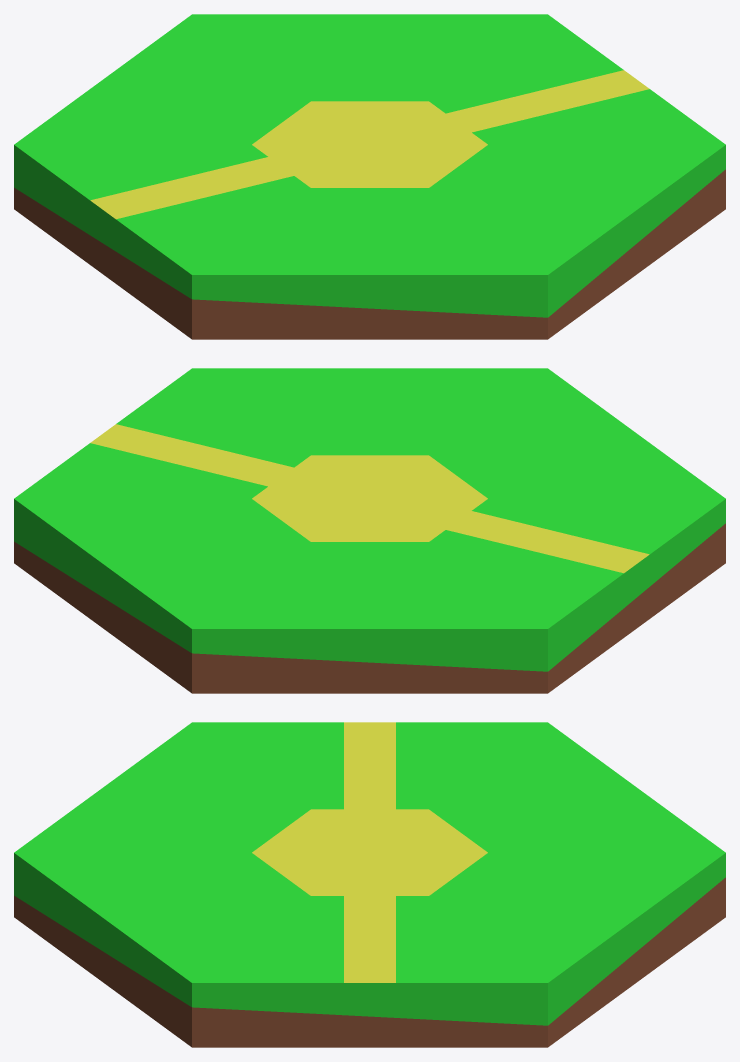
The model's file is pathTile0.fbx.
3 renders of one model, top to bottom at view 1: azimuth 30°, elevation 25°; view 2: azimuth 150°, elevation 25°; view 3: azimuth 270°, elevation 25°, orthographic.
Visible parts, largest first — view 1: CylinderPathNode.002; view 2: CylinderPathNode.002; view 3: CylinderPathNode.002.
Part boxes in pixels (x1,y1,x2,y2): CylinderPathNode.002: [14, 14, 725, 339]; CylinderPathNode.002: [14, 368, 725, 693]; CylinderPathNode.002: [14, 722, 725, 1047].
Size of the model in its own units: 173 by 40 by 200.
